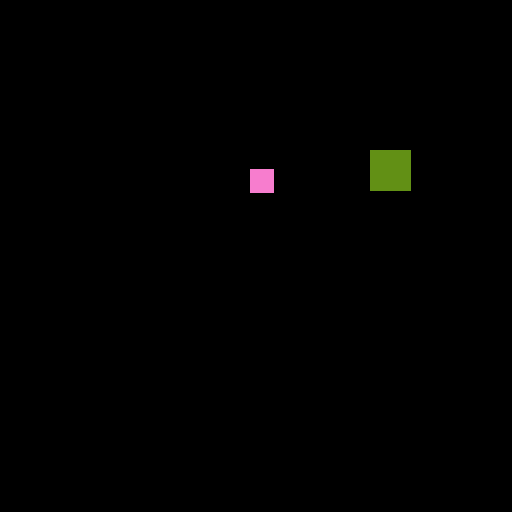square: (368, 147, 411, 192), (250, 167, 275, 194)
